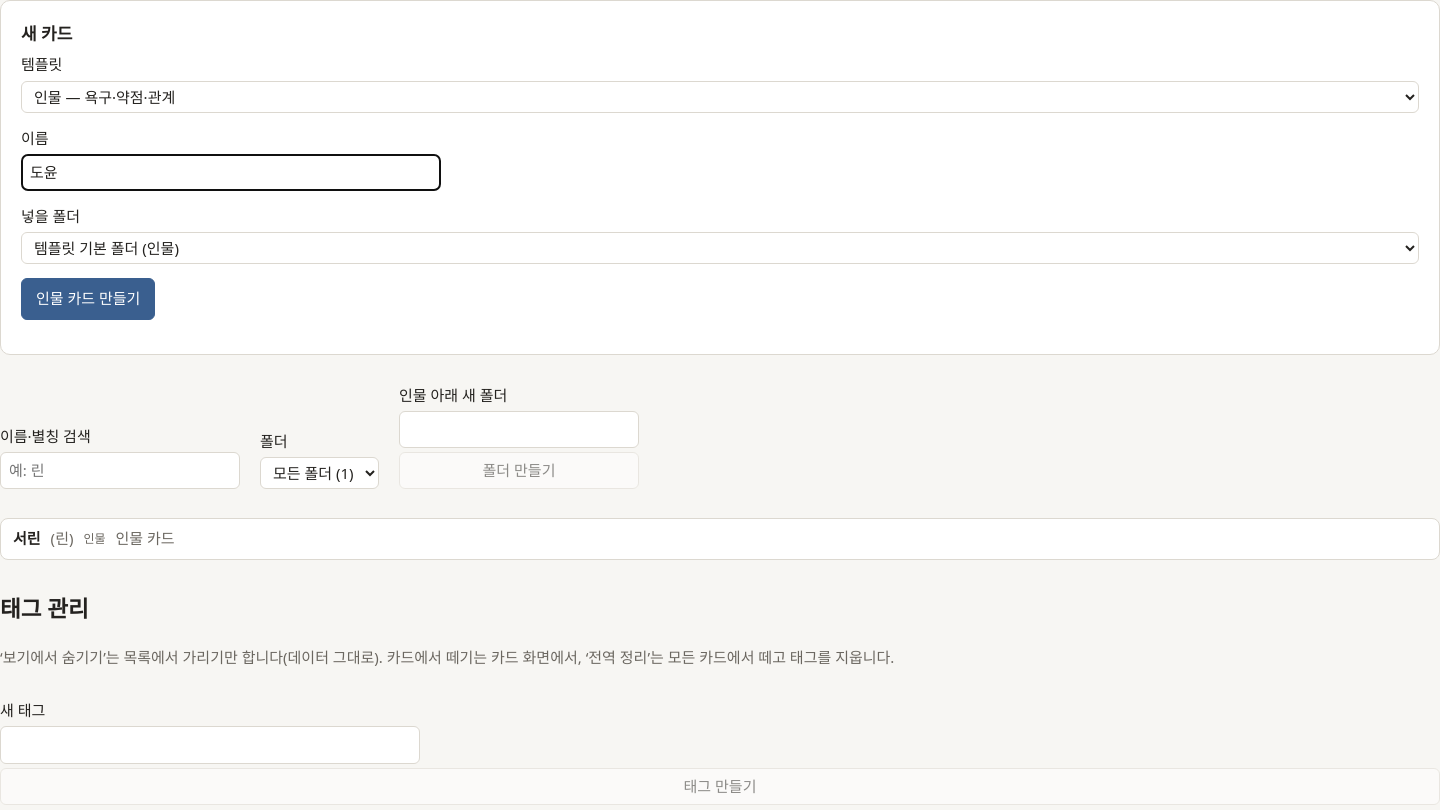
Scenario: 08 world cards › S08.B alias 린 is saved and found by search after remount; hiding tag A keeps data
Earlier steps of the test are not shown.
Later steps or results of the test are not shown.
Click the button "인물 카드 만들기" at (88,299), box x1=21 y1=278 x2=155 y2=320
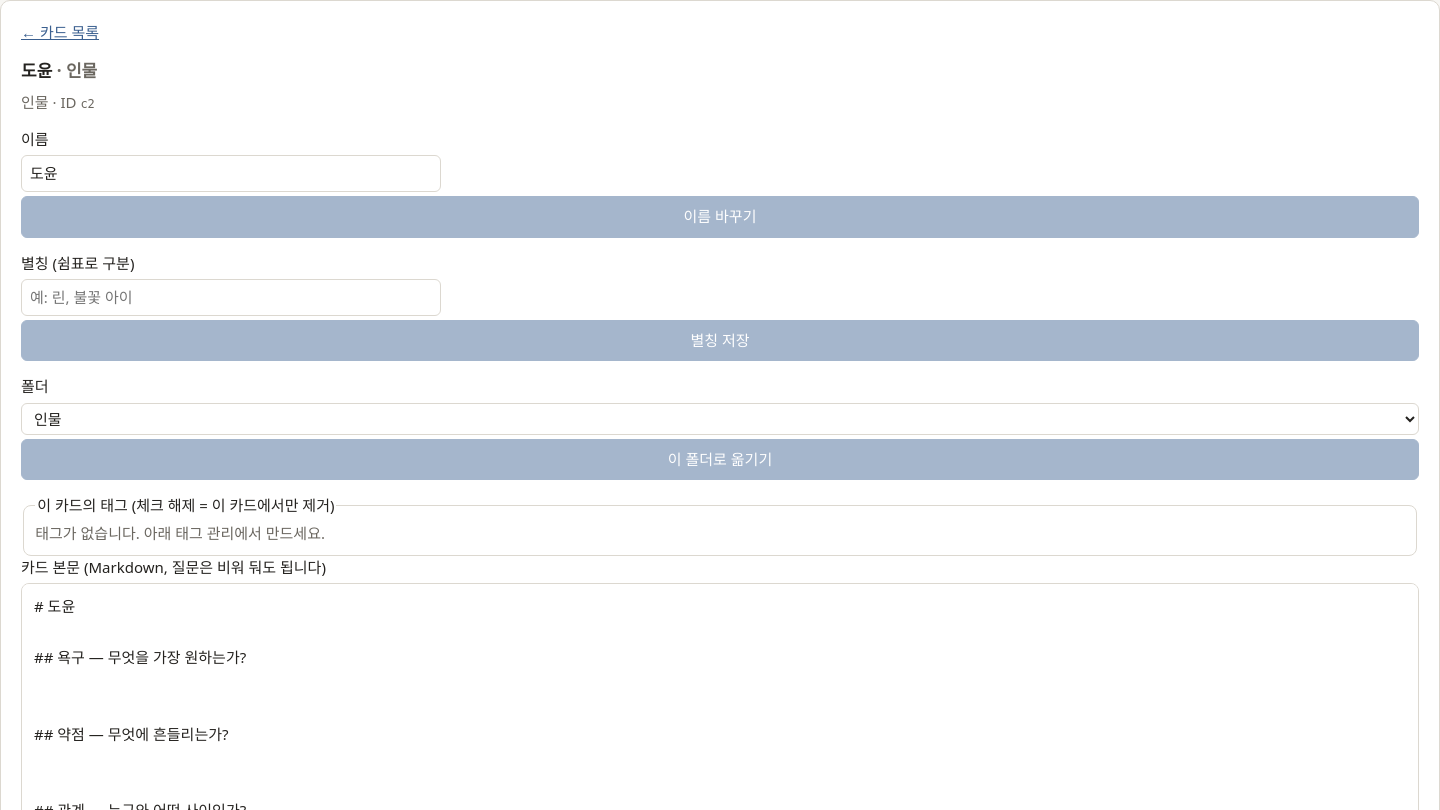
Result: the button "← 카드 목록" is shown
Click the button "← 카드 목록" at (60,33), box x1=21 y1=21 x2=99 y2=44
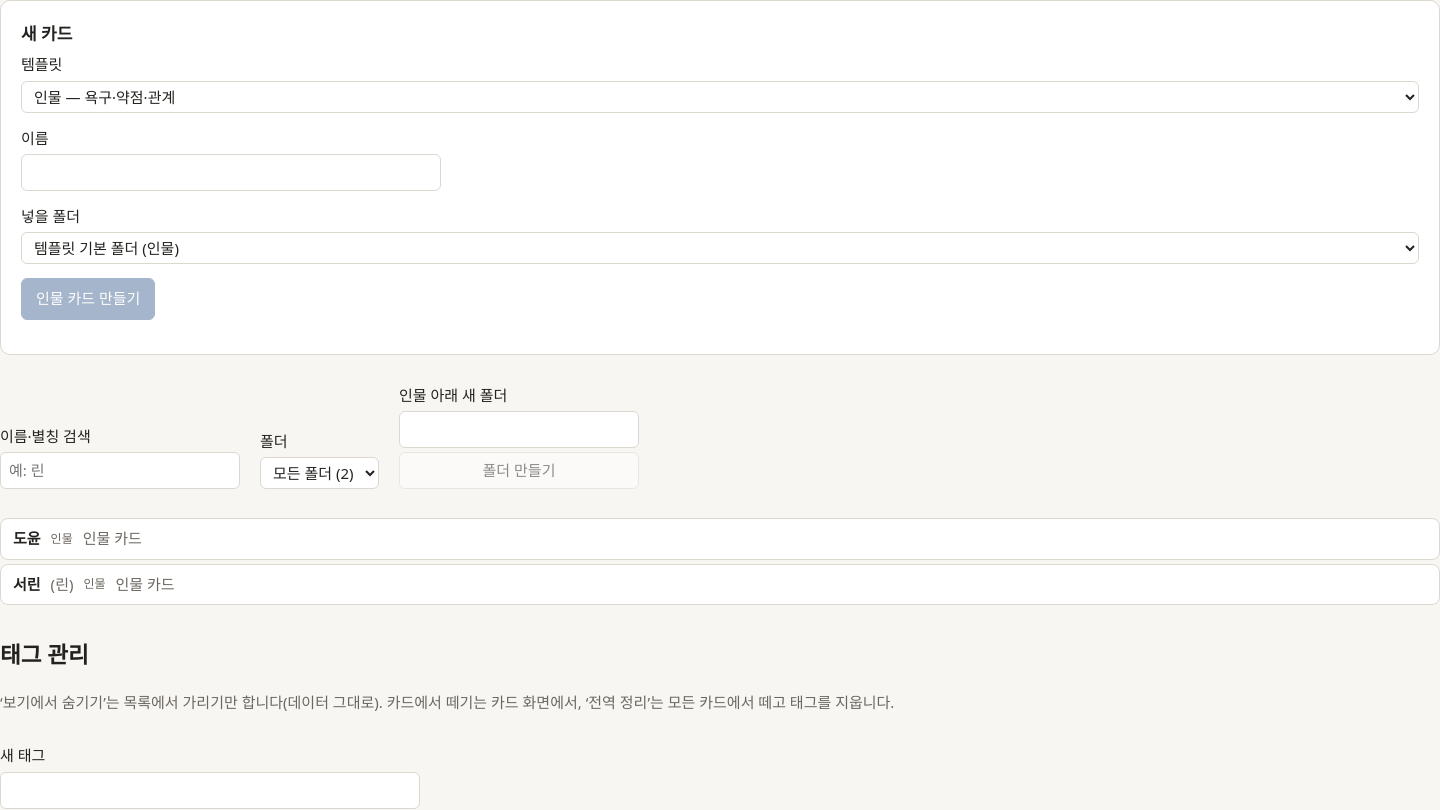
Type "A" into the field labelled "새 태그" at (210,790), box x1=0 y1=772 x2=420 y2=809
(page scrolled)
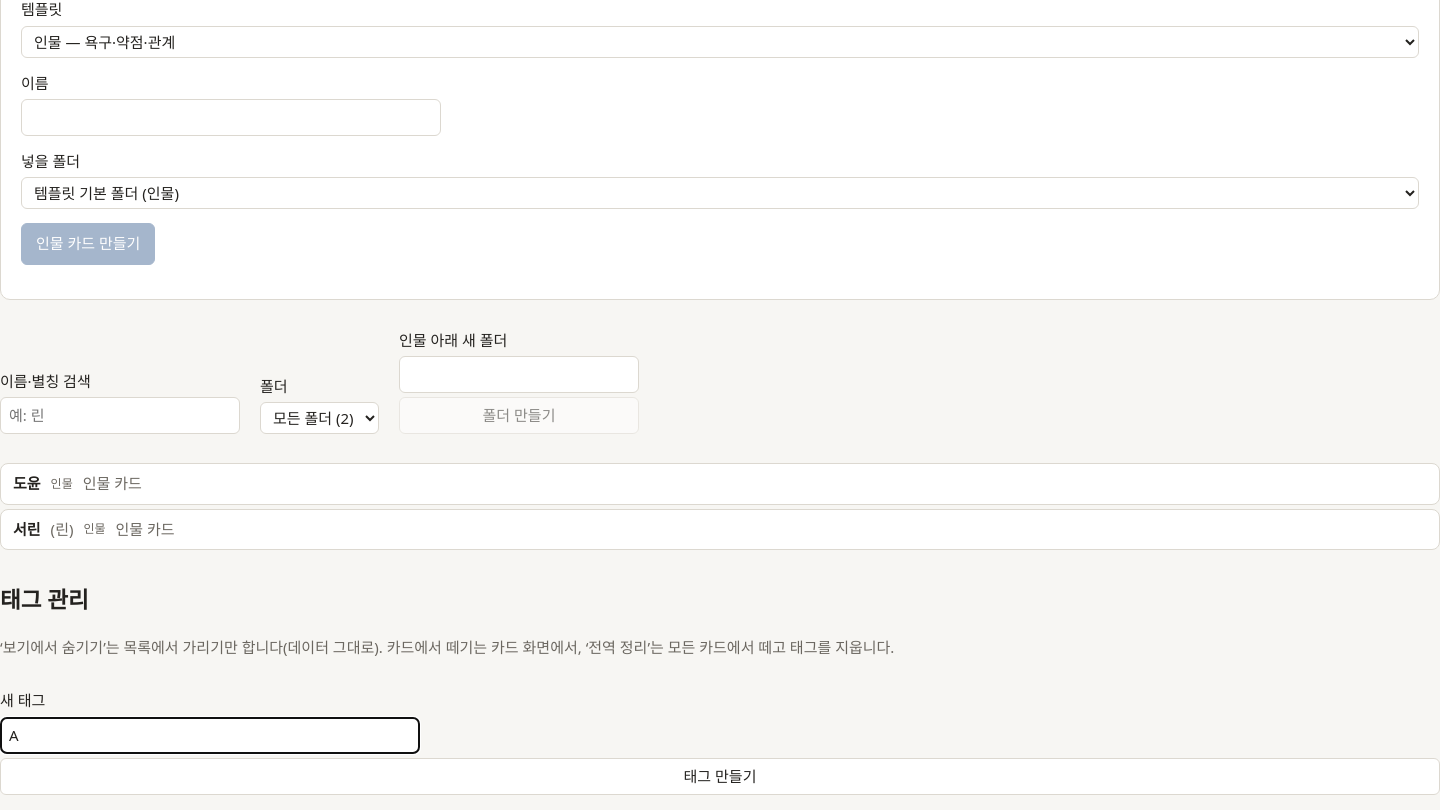
Click the button "태그 만들기" at (720,776), box x1=0 y1=758 x2=1439 y2=795
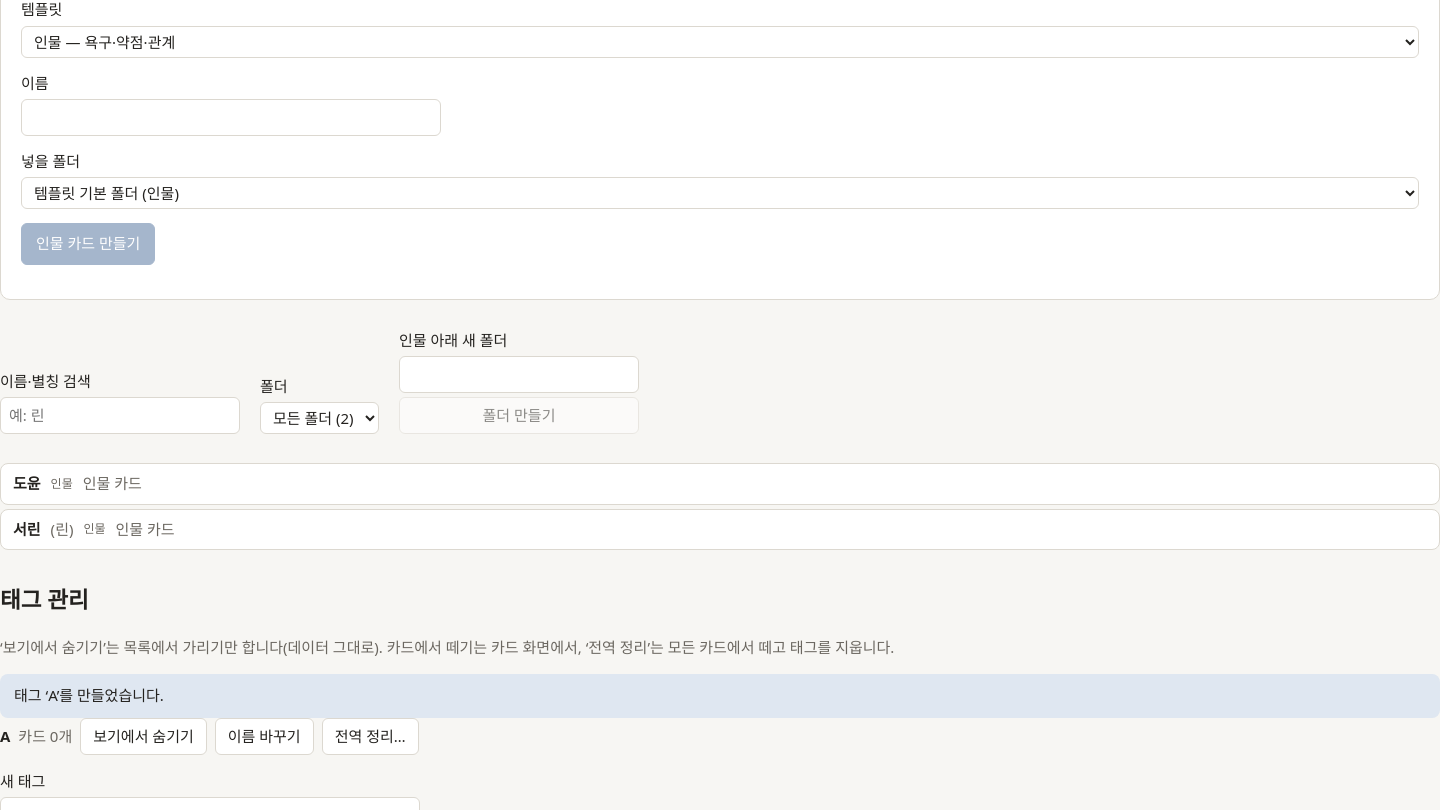
Result: the text "태그 ‘A’를 만들었습니다." is shown at x1=0 y1=674 x2=1439 y2=718
Click the button with class "card-row" showing "서린 (린) 인물 인물 카드" at (145,529), box x1=0 y1=509 x2=1439 y2=550
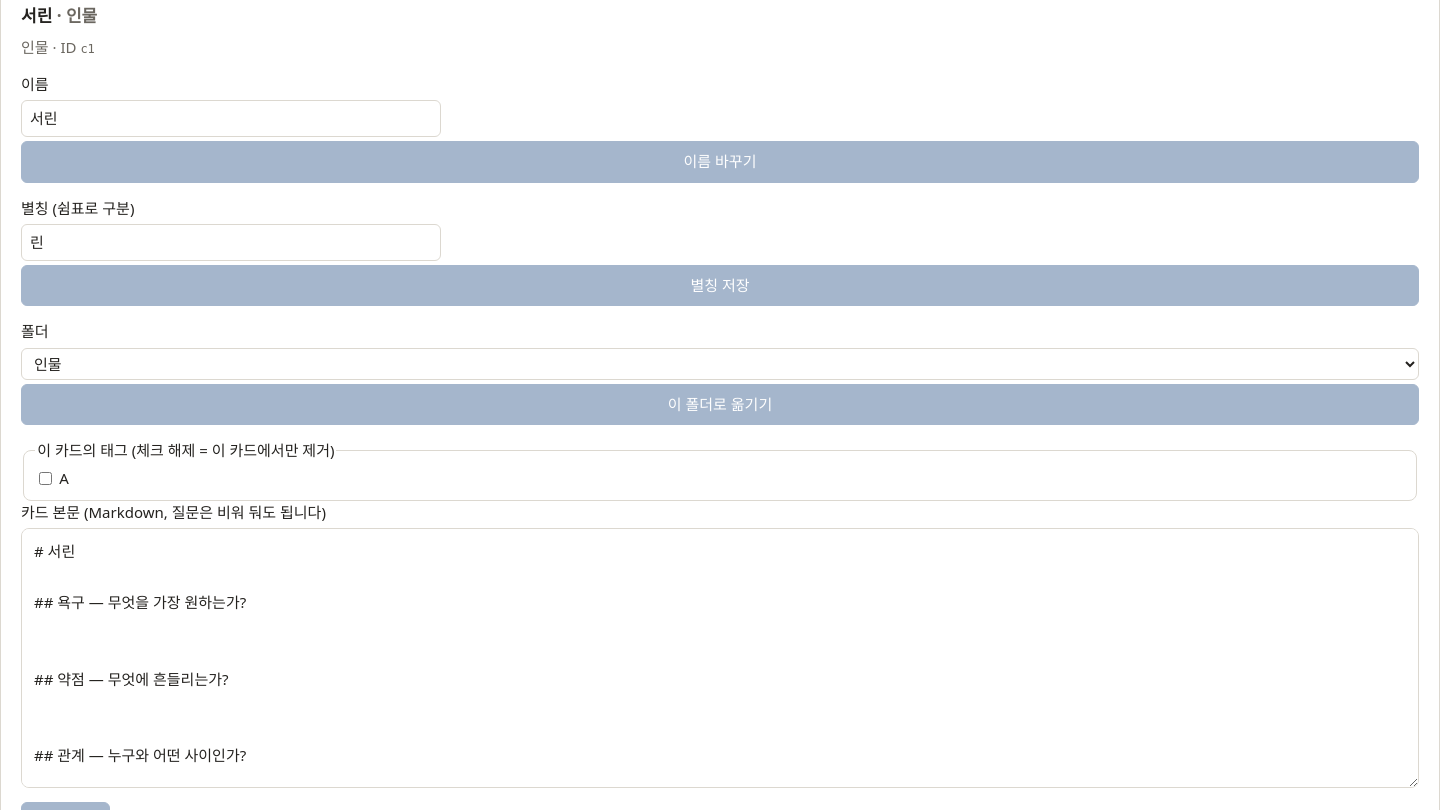
Click the checkbox labelled "A" at (46,479), box x1=39 y1=472 x2=52 y2=486
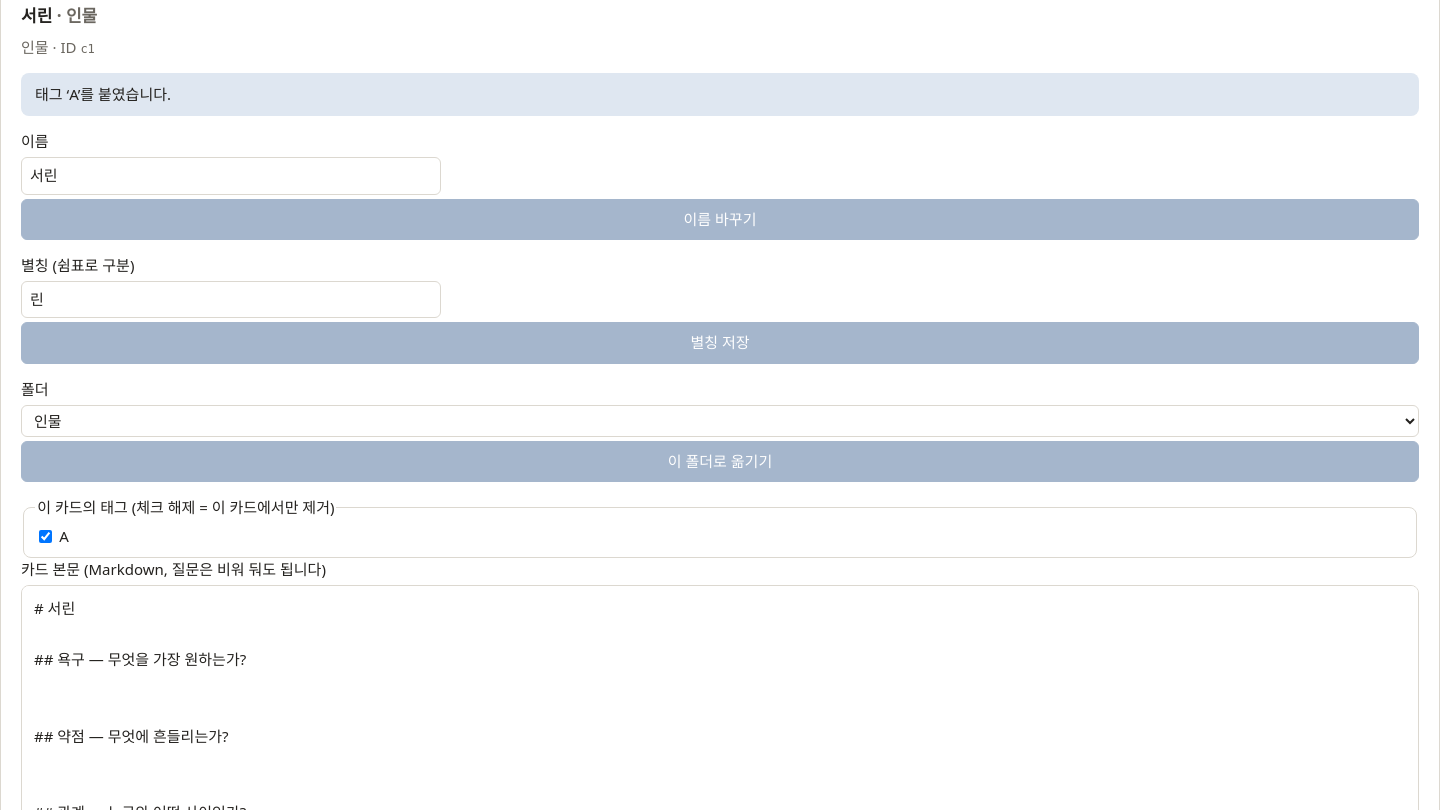
Result: the text "태그 ‘A’를 붙였습니다." is shown at x1=21 y1=73 x2=1419 y2=116
